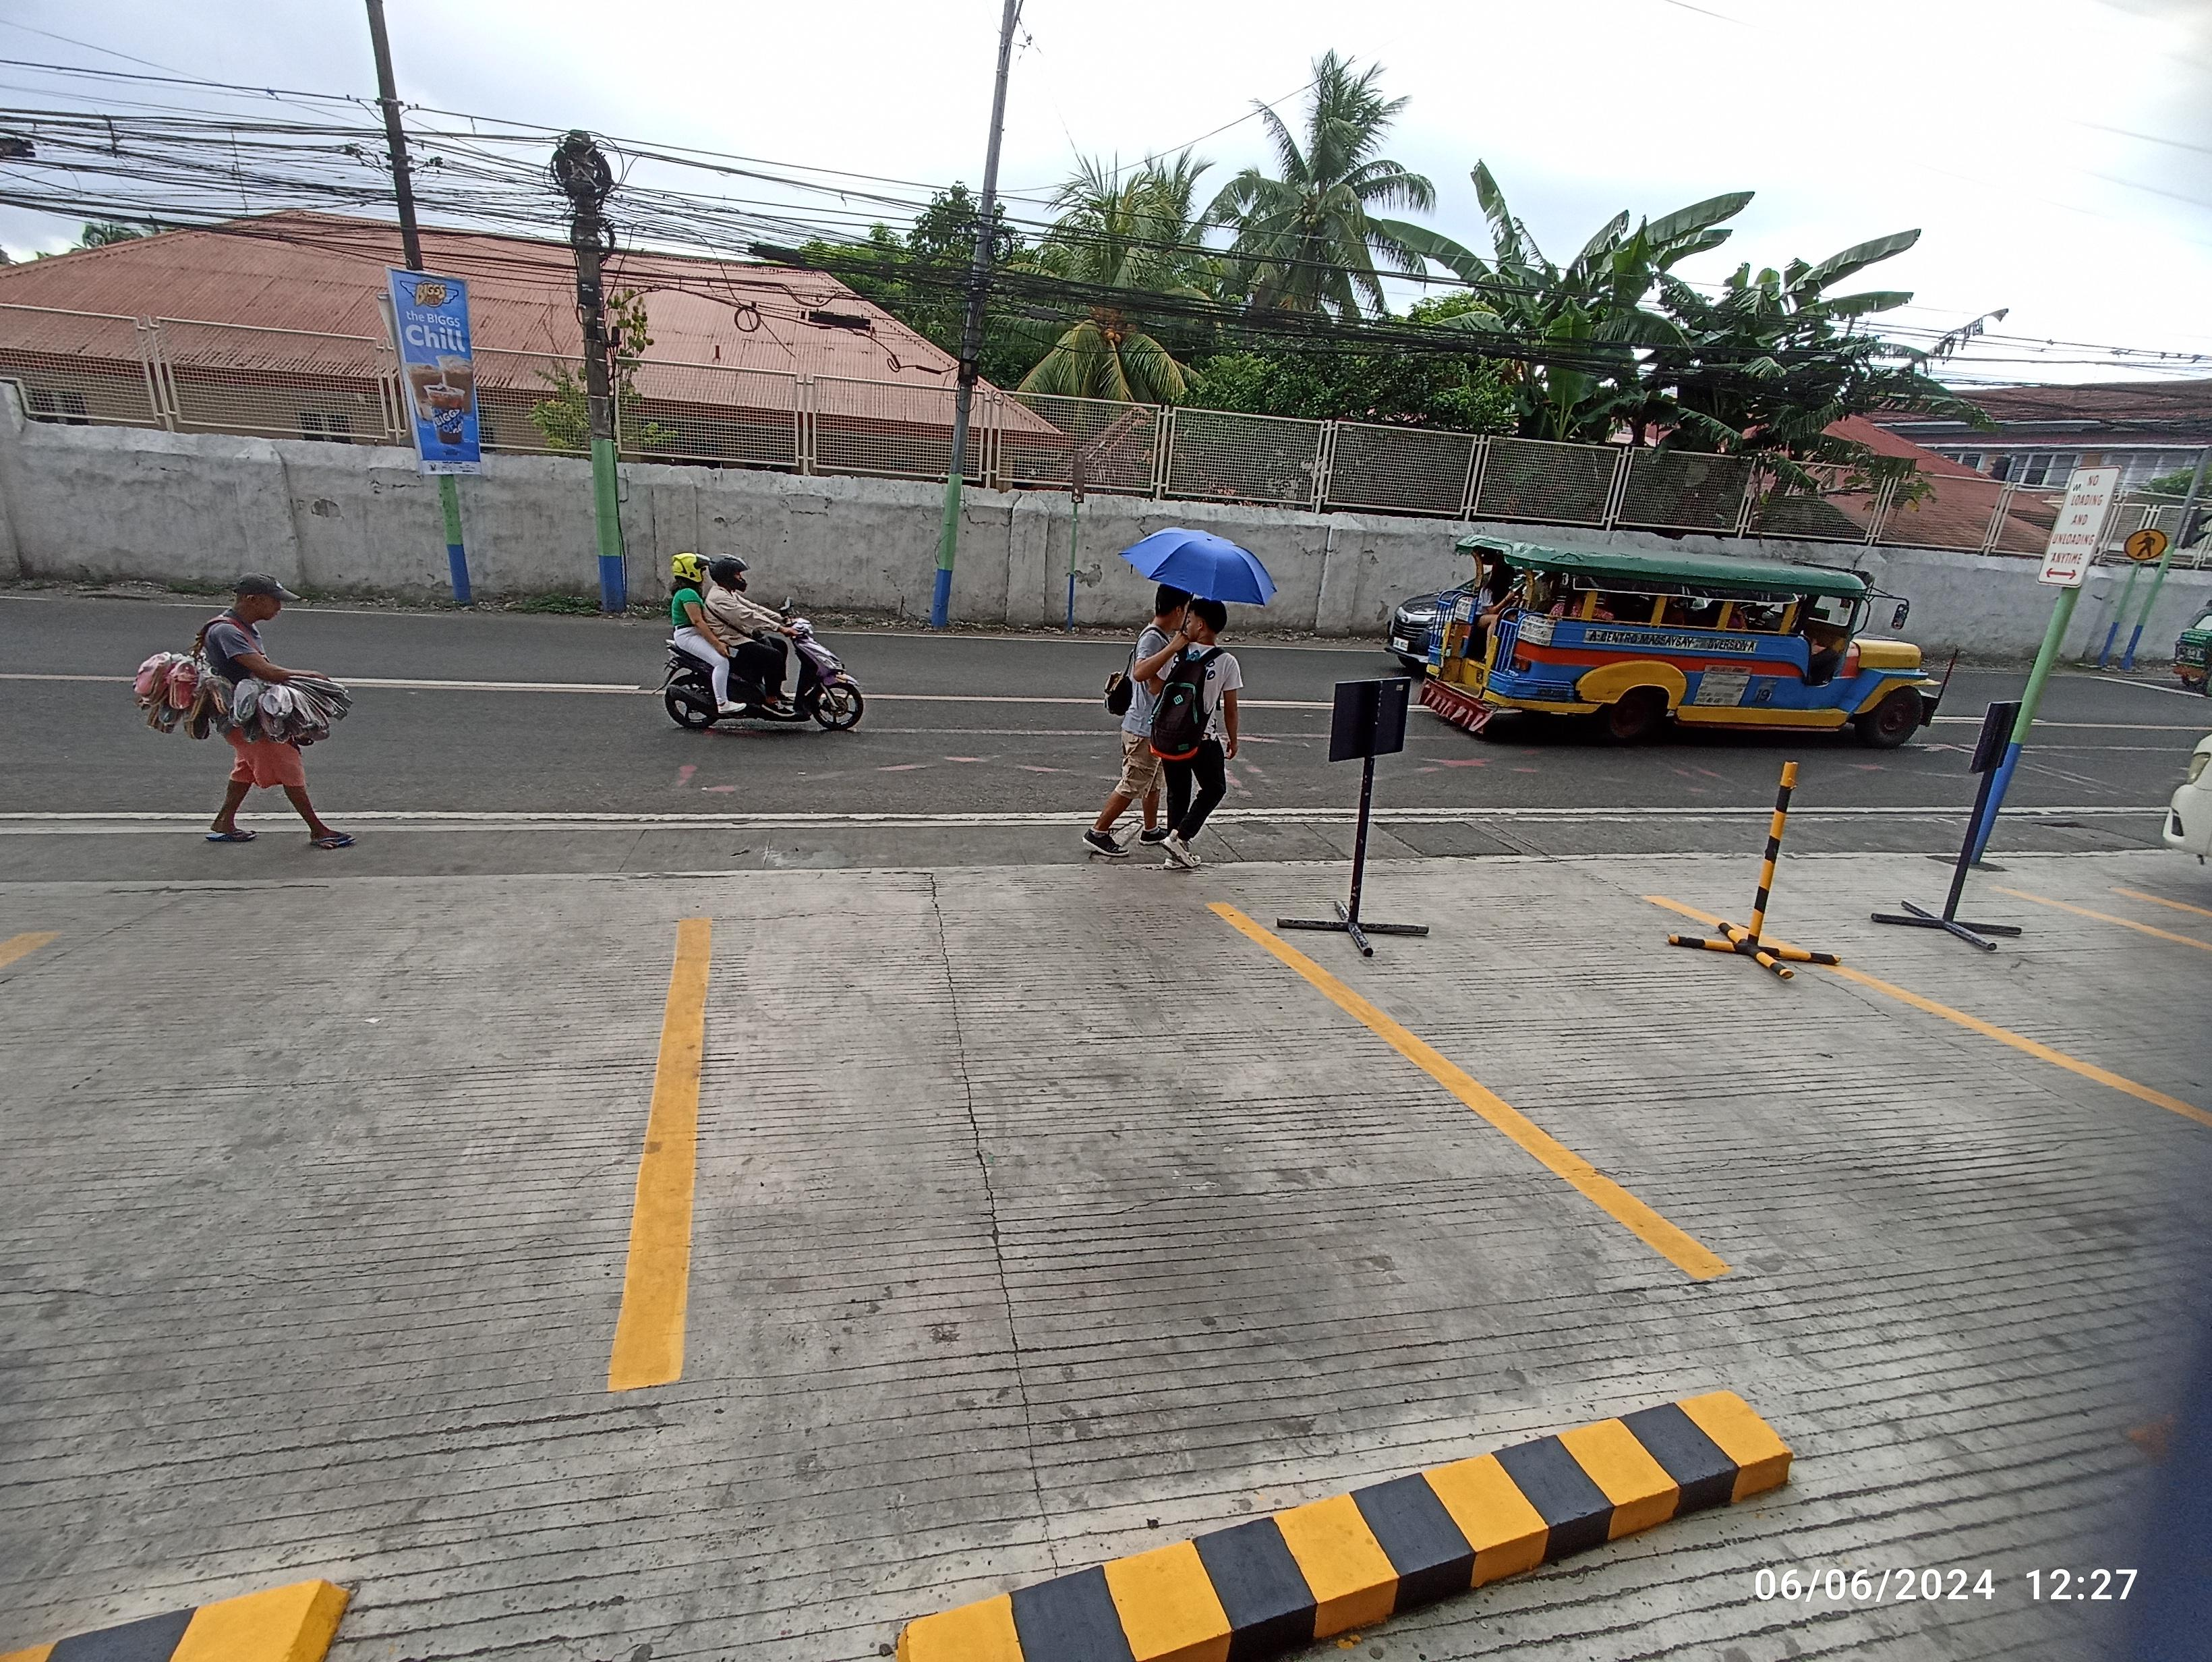vacant: (574, 899, 2029, 1662), (1199, 892, 2182, 1287)
